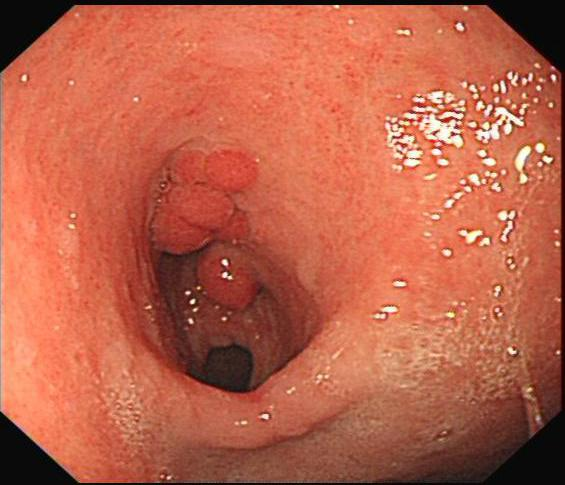Polyp: (187, 244, 268, 310), (168, 181, 238, 234), (140, 215, 210, 266)
